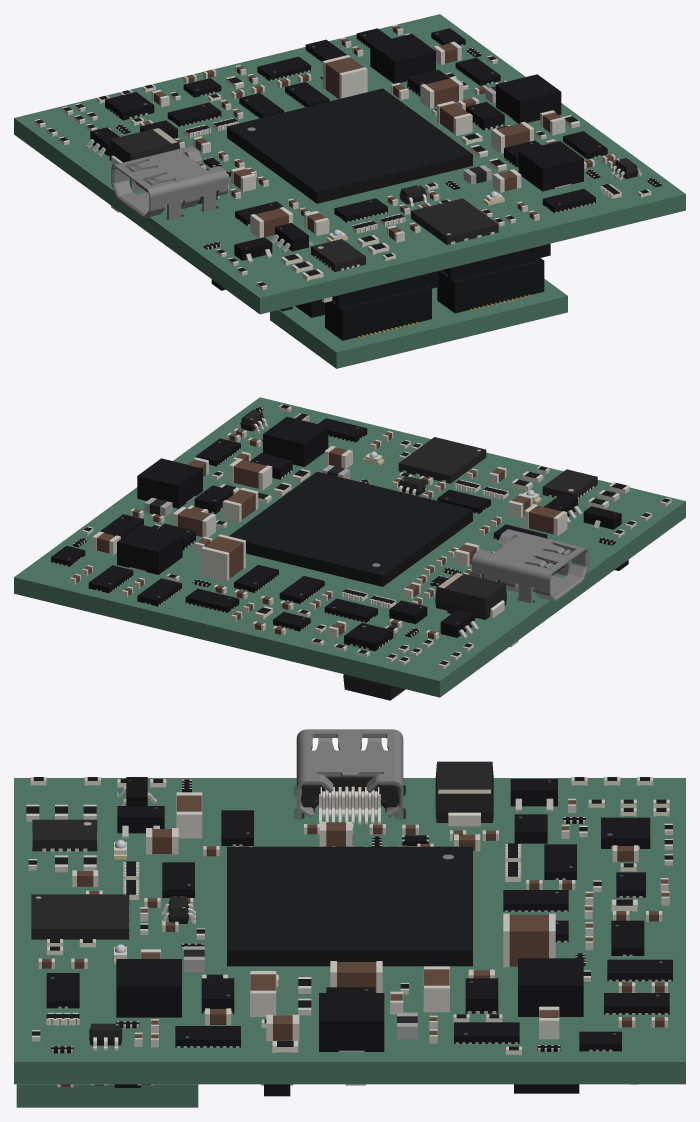
The model's file is fpga35t-r37.glb.
The picture shows the model from 3 angles, top to bottom: view 1: azimuth 30°, elevation 25°; view 2: azimuth 150°, elevation 25°; view 3: azimuth 270°, elevation 25°; orthographic projection. The views are drawn at different scales.
Parts seen in each view (by area): view 1: Material-batched review assembly; view 2: Material-batched review assembly; view 3: Material-batched review assembly.
Part boxes in pixels (x1=…): Material-batched review assembly: x1=14, y1=14, x2=685, y2=368; Material-batched review assembly: x1=14, y1=397, x2=685, y2=700; Material-batched review assembly: x1=14, y1=729, x2=685, y2=1107.
Bounding box in the file's own units: 0.0416 × 0.0113 × 0.041.
